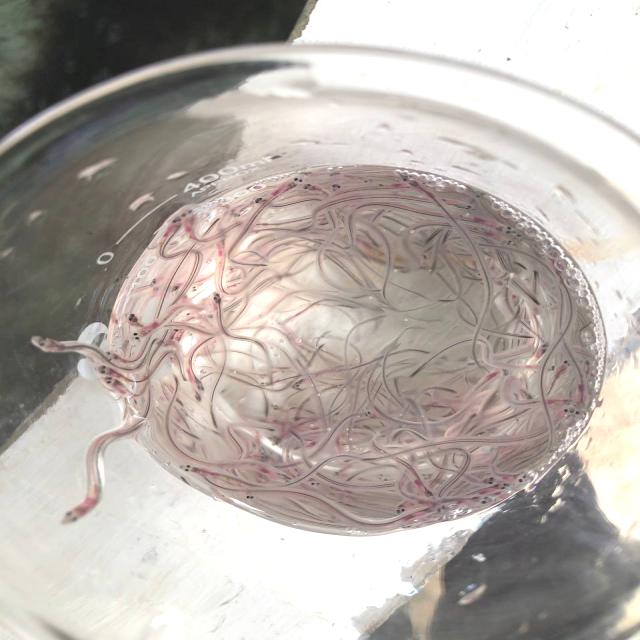glass_eel: (56, 495, 96, 526), (29, 334, 61, 356), (496, 223, 520, 240), (177, 460, 206, 474), (394, 171, 419, 187), (180, 207, 197, 226), (509, 470, 532, 484), (100, 375, 122, 389), (94, 364, 115, 378), (286, 172, 304, 188), (456, 202, 479, 214), (167, 214, 184, 230), (190, 376, 208, 391), (299, 182, 321, 194), (128, 328, 148, 341), (392, 502, 410, 516), (322, 181, 342, 193), (242, 488, 256, 505), (124, 312, 140, 326), (210, 291, 226, 305), (568, 404, 584, 418), (536, 342, 550, 358), (472, 495, 493, 505), (266, 434, 283, 446), (431, 502, 448, 514), (562, 358, 576, 372), (359, 407, 375, 419), (146, 275, 162, 287), (327, 168, 343, 180), (556, 405, 570, 418), (307, 476, 322, 488), (251, 197, 271, 206), (302, 170, 320, 180), (267, 402, 284, 412), (481, 476, 498, 486), (501, 238, 518, 248), (186, 282, 200, 294), (494, 481, 510, 491), (104, 349, 120, 359), (169, 282, 185, 292), (190, 392, 204, 403), (362, 176, 376, 187), (232, 209, 244, 221), (330, 468, 346, 476), (289, 381, 305, 389), (544, 364, 558, 372)
